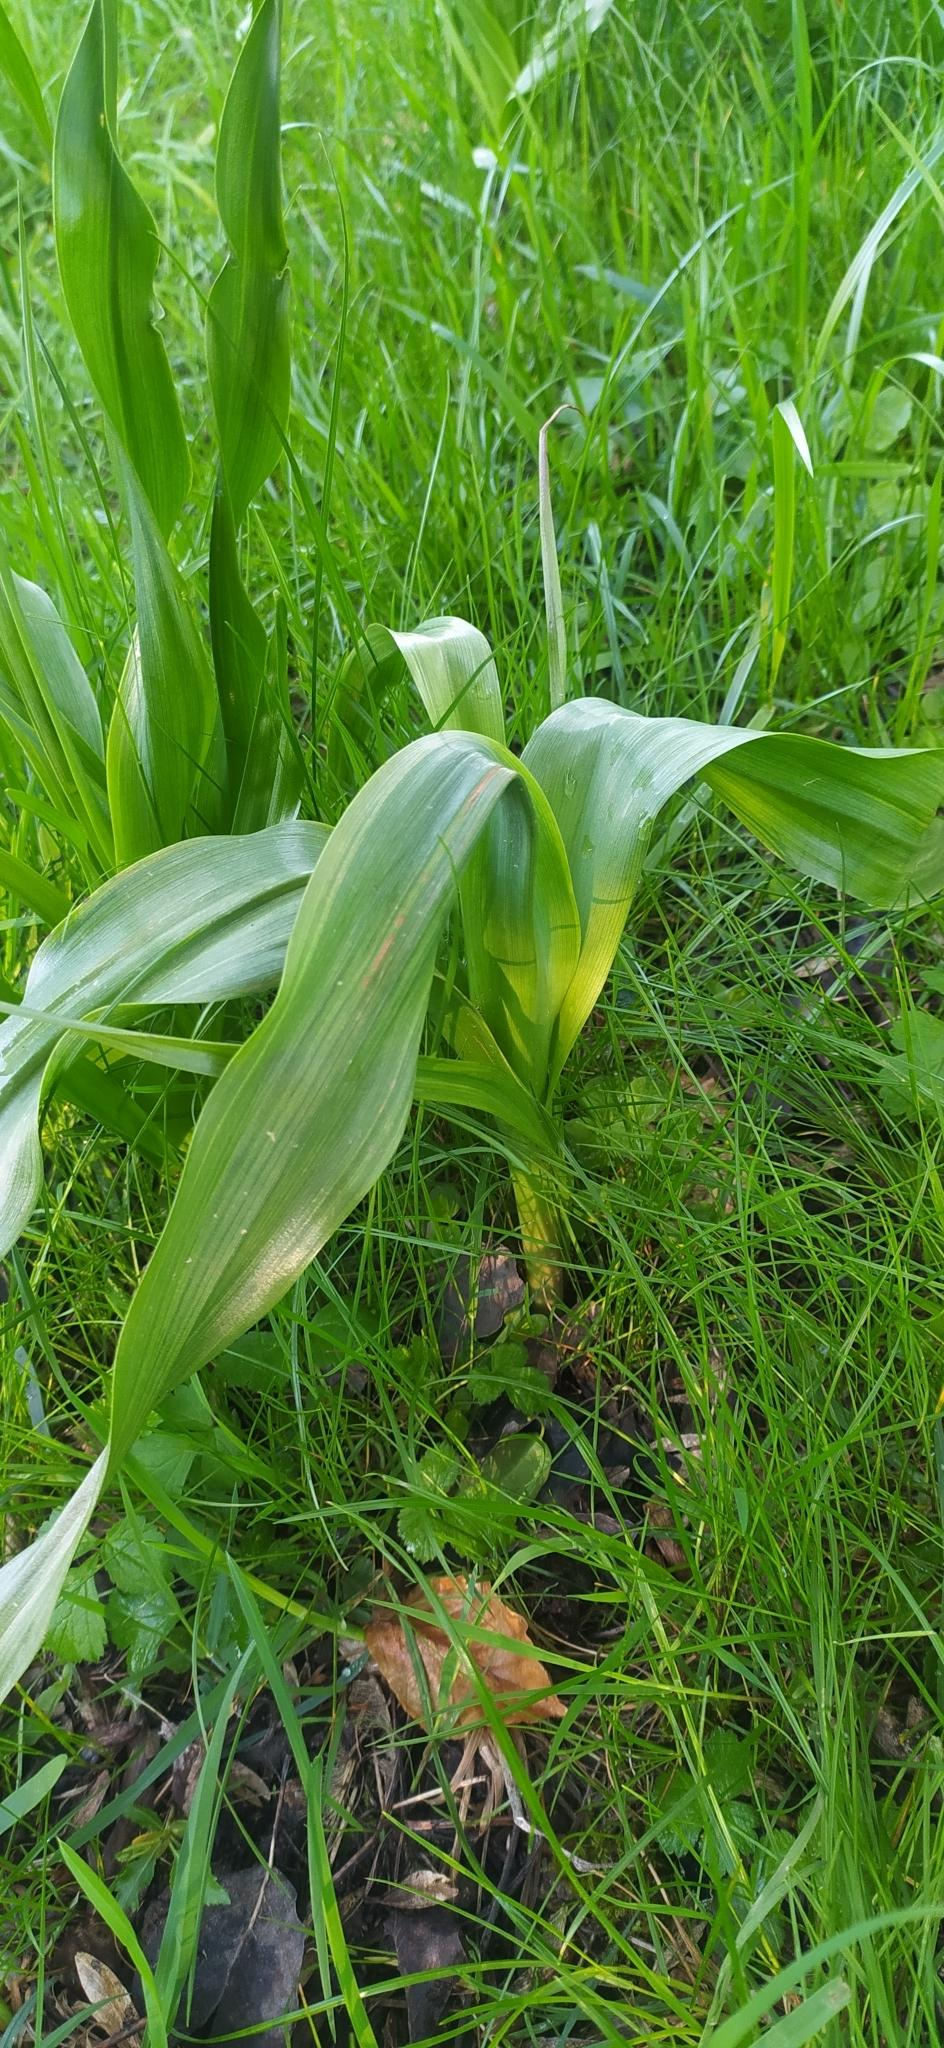Colchicum autumnale L: (146, 610, 872, 1344)
